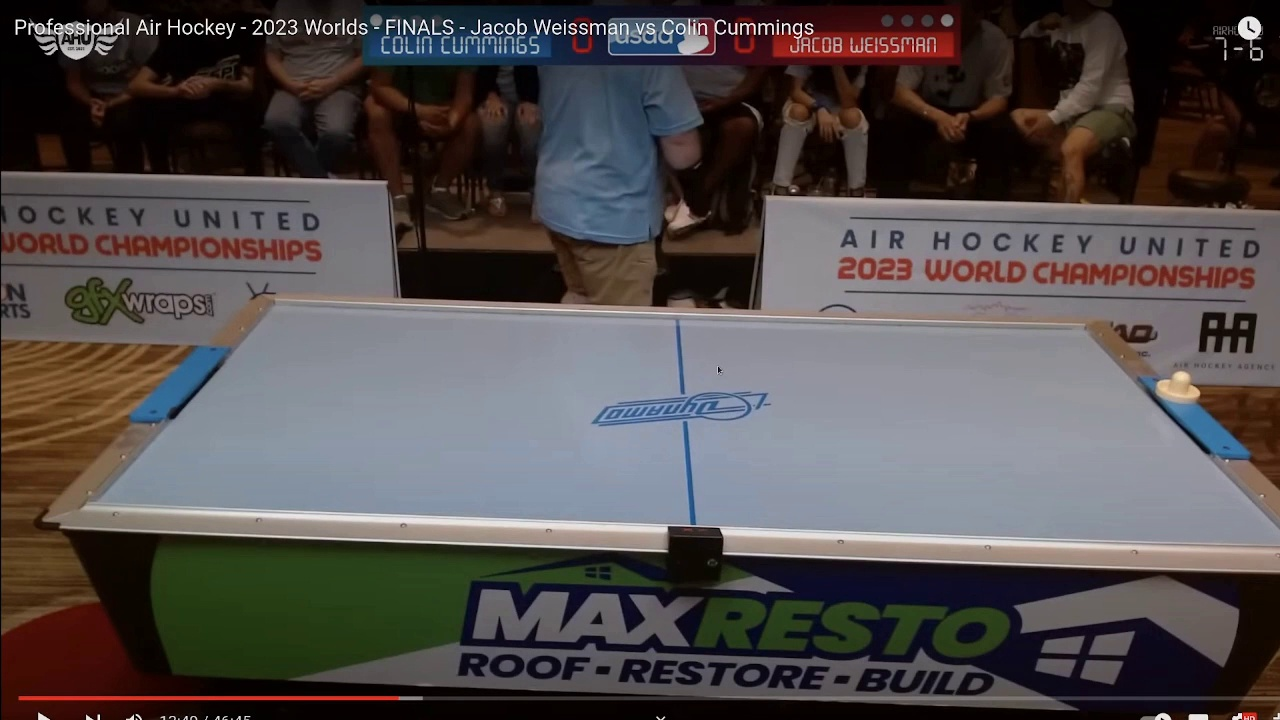player: (1155, 369, 1205, 406)
table: (56, 293, 1280, 565)
